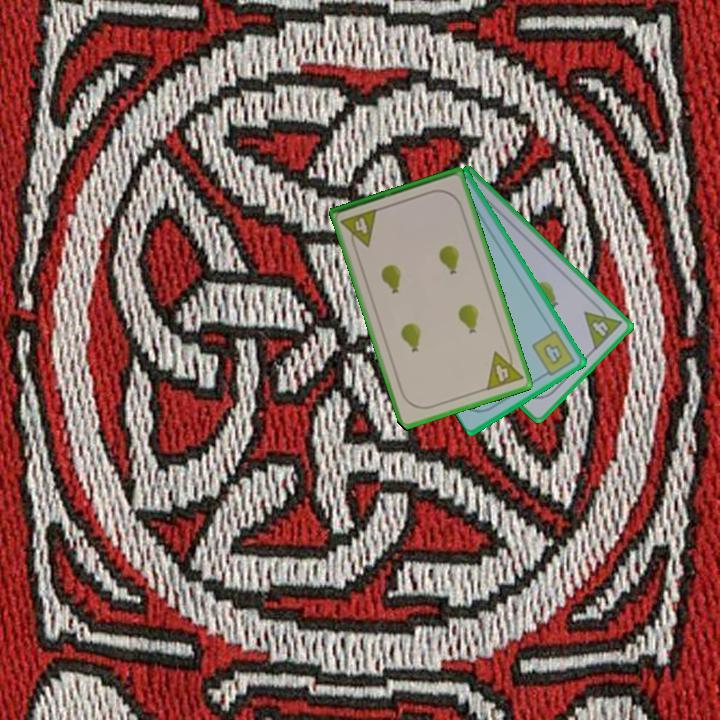4b: (528, 326, 578, 380)
4p: (581, 299, 625, 353), (337, 205, 381, 253), (483, 344, 526, 393)
